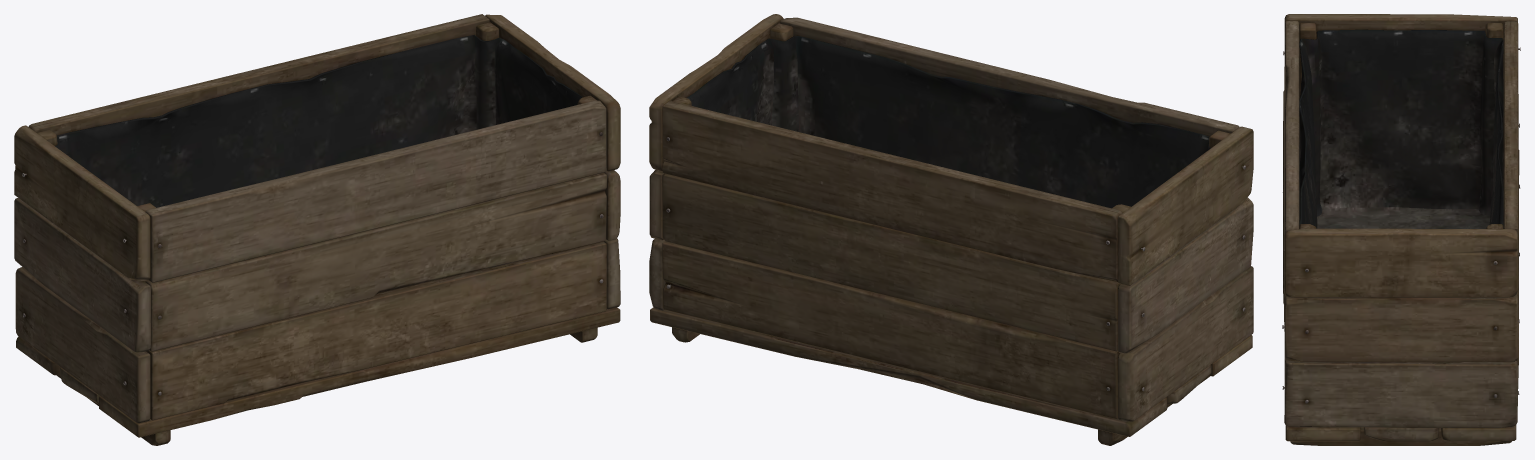
Rendered from planter_box_01.glb.
The picture shows the model from 3 angles, left to right: view 1: azimuth 30°, elevation 25°; view 2: azimuth 150°, elevation 25°; view 3: azimuth 270°, elevation 25°; orthographic projection. The views are drawn at different scales.
Visible parts, largest first — view 1: planter_box_01; view 2: planter_box_01; view 3: planter_box_01.
Boxes of the visible parts, x1,y1,x2,y2 form: planter_box_01: (14,14,620,445); planter_box_01: (649,14,1253,445); planter_box_01: (1282,14,1520,445).
Bounding box in the file's own units: 0.9126 × 0.4249 × 0.4137.
Materials: 1 (1 with a texture image).
